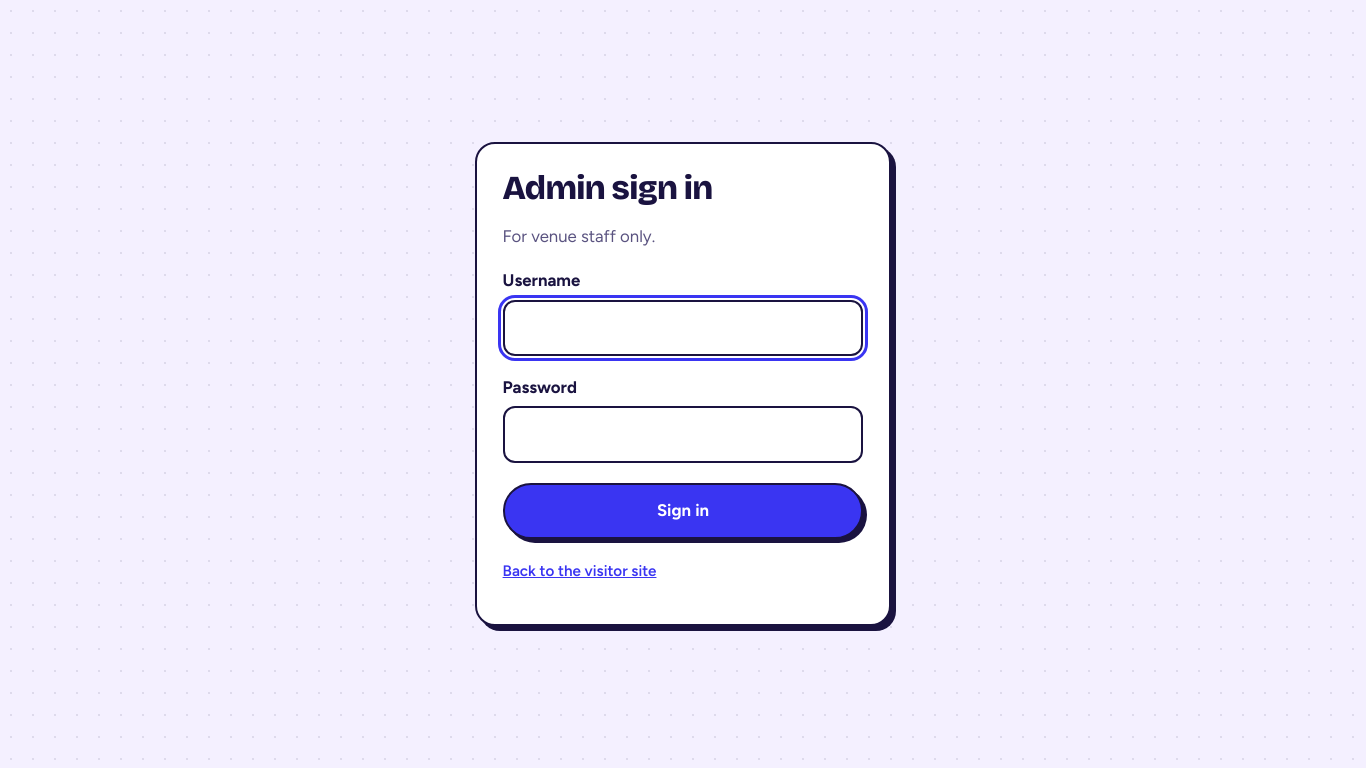
Test: Admin sign in and protection › shows an error for a wrong password
In the field labelled "Username": (683, 328) [503, 300, 863, 356], type "admin"
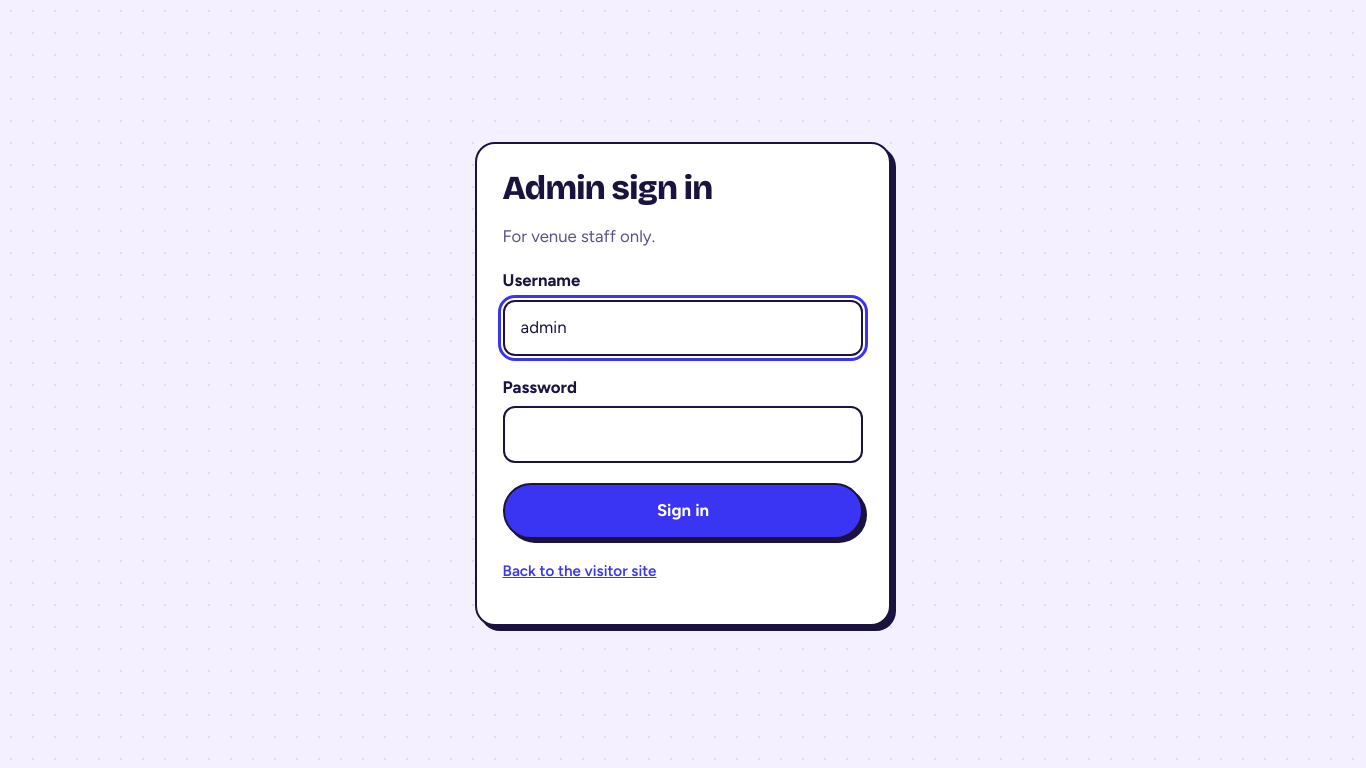
In the password field labelled "Password": (683, 434) [503, 406, 863, 462], type "nope"
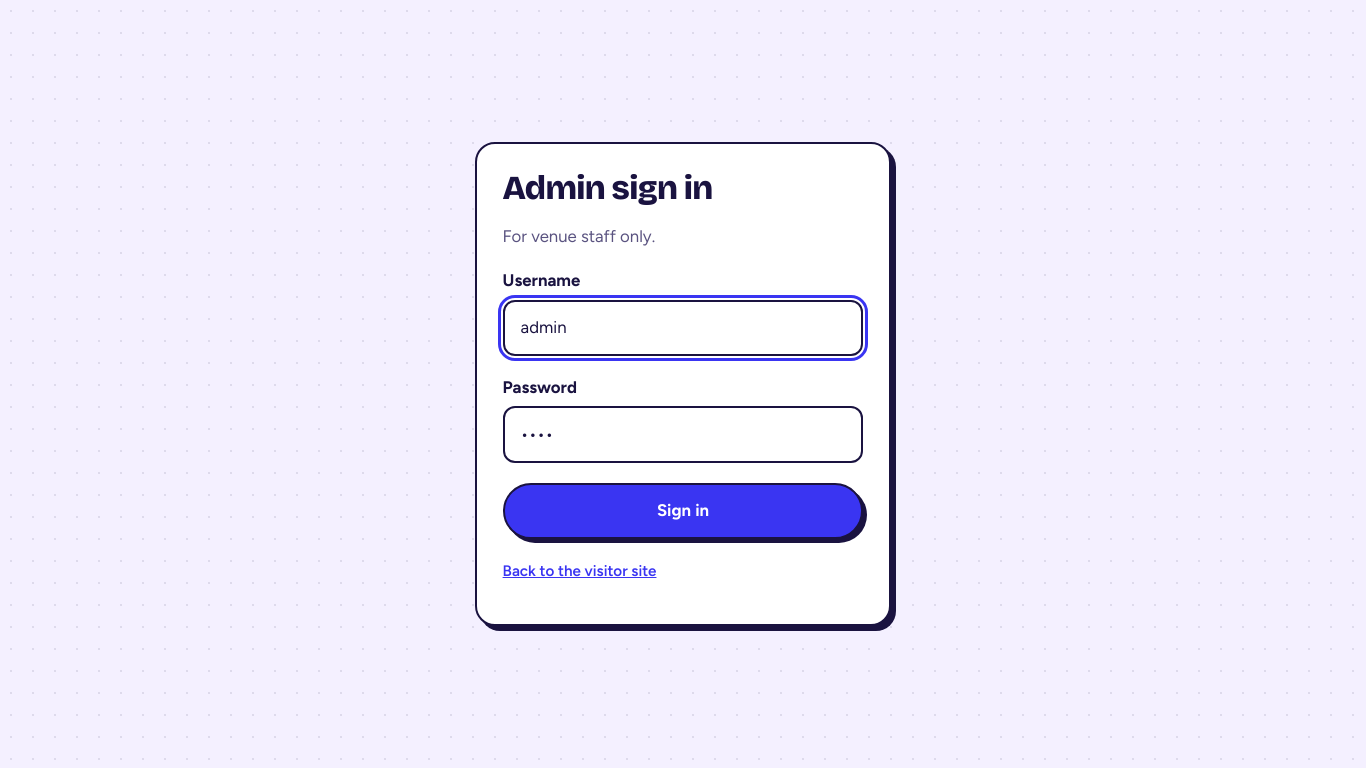
Click the button "Sign in": (683, 511) [503, 482, 863, 539]
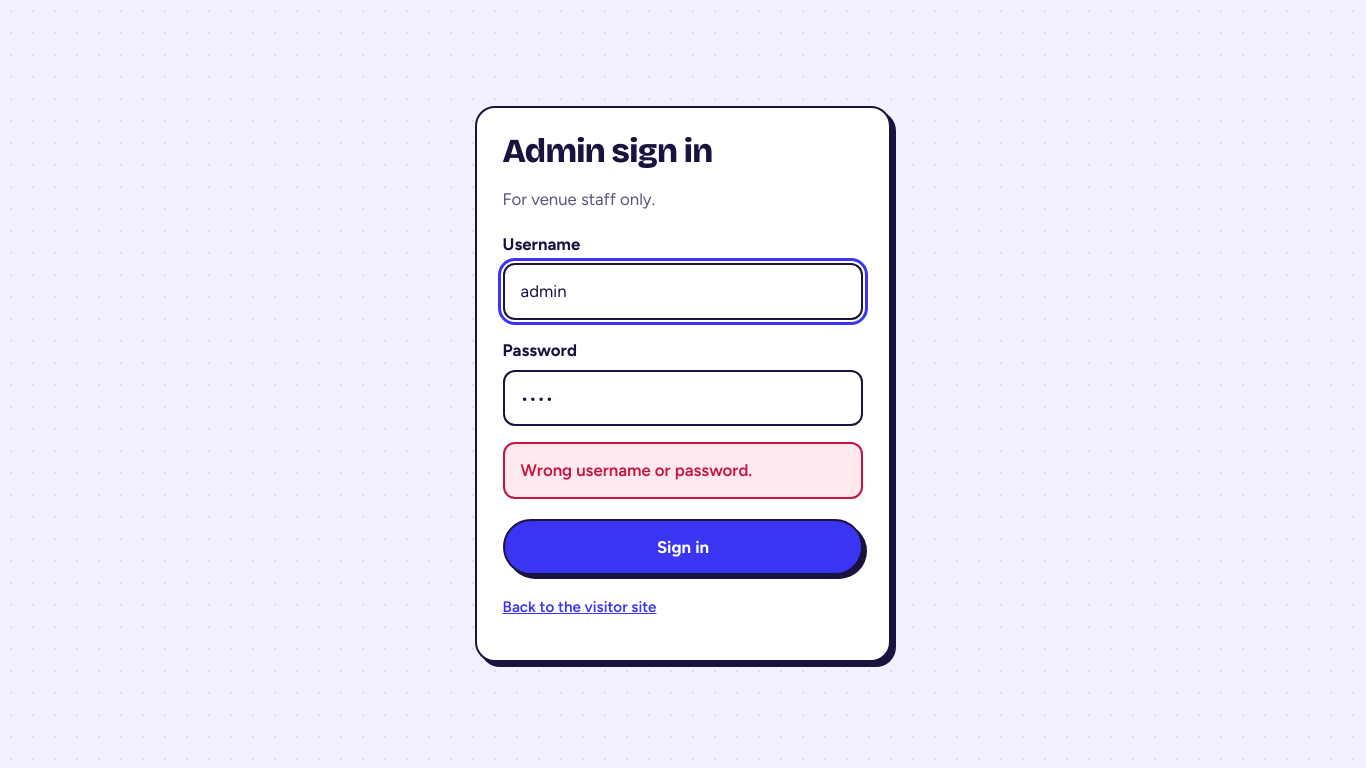
Expected: the text "Wrong username or password." is shown, [503, 442, 863, 499]
